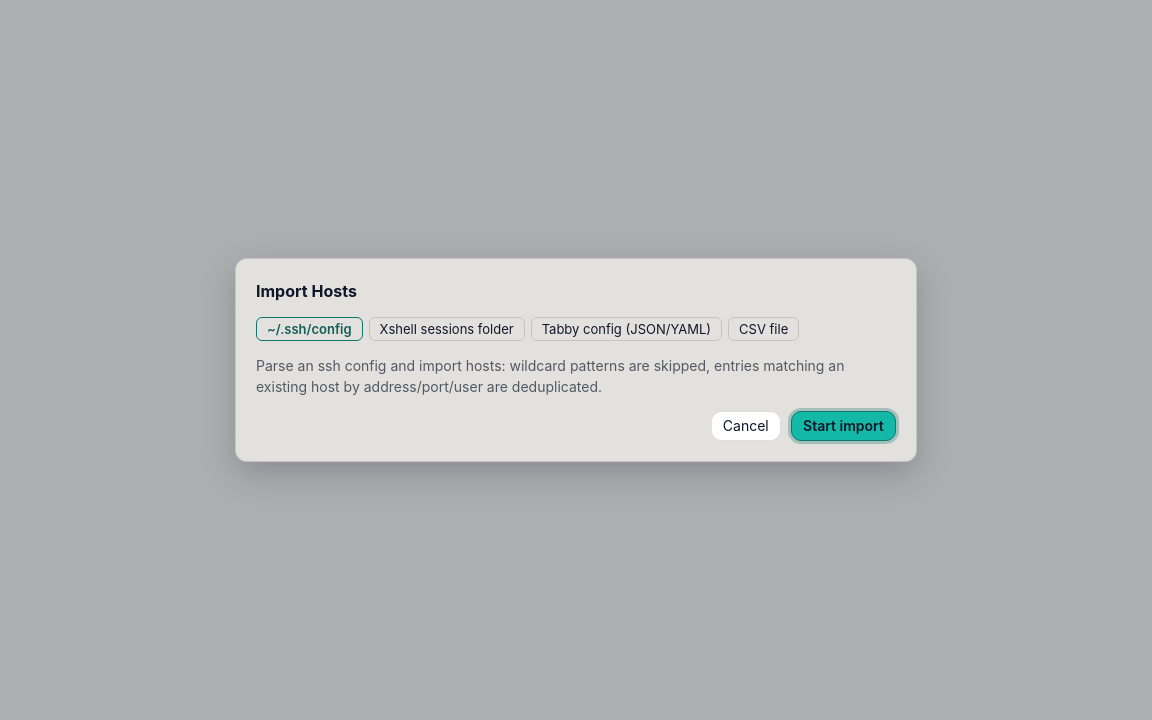
Test: ImportDialog › 导入失败：显示 failed 消息，点 Retry 重发
Click the button with test id "import-start": click(843, 426) [791,410,896,441]
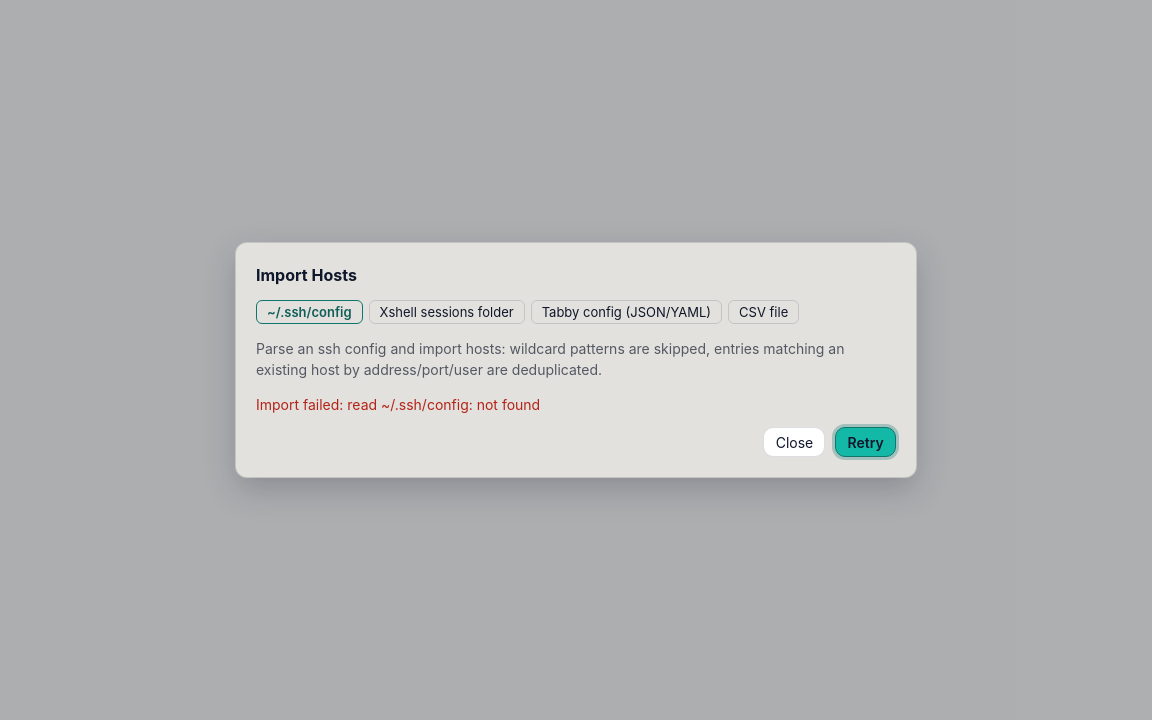
expect the text with test id "import-failed" shows "not found": met, box [256,396,540,413]
Click the button "Retry": click(866, 442) [835,427,896,457]
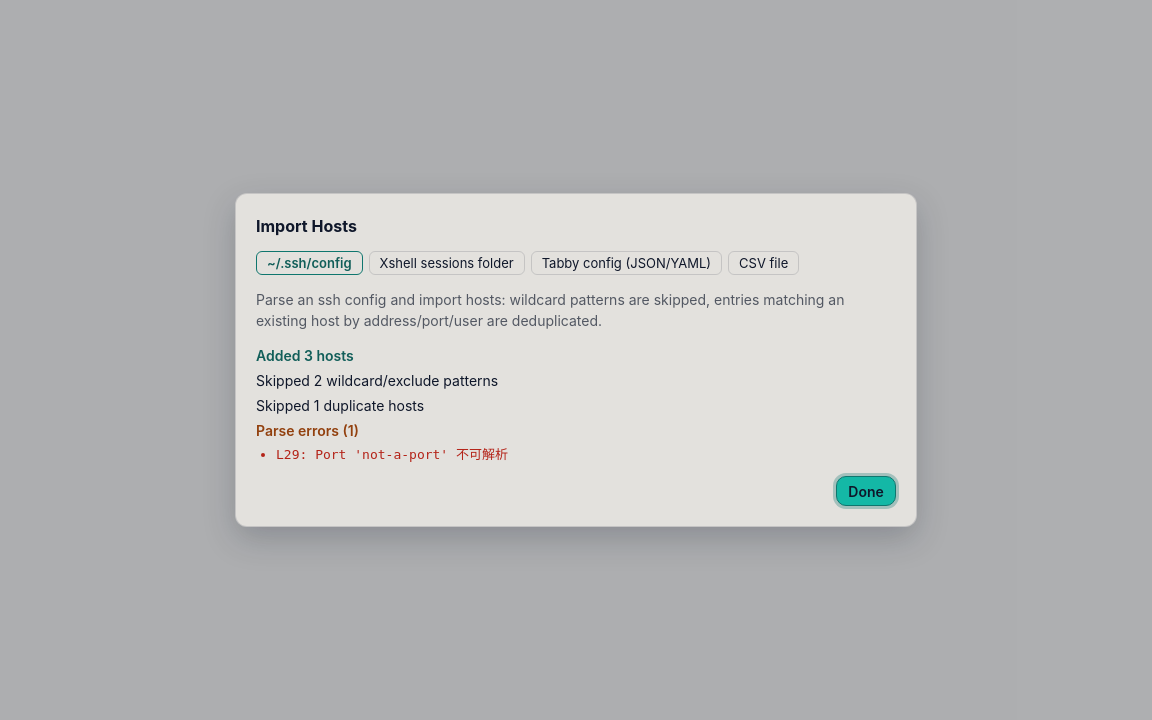
expect the element with test id "import-report" is shown: met, box [256,347,508,462]
